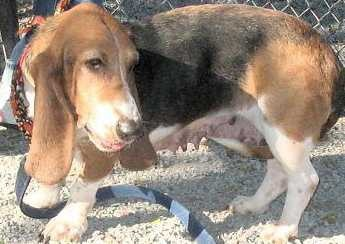Dog: (0, 0, 155, 217)
